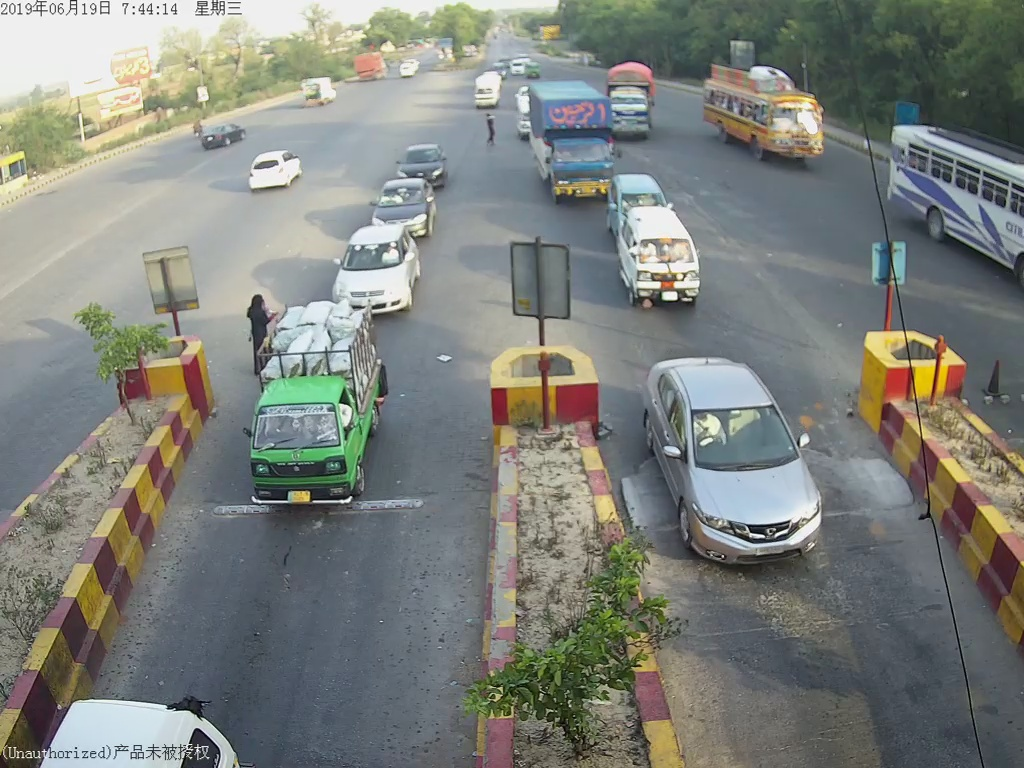Cat-1: (646, 366, 851, 580), (253, 314, 390, 498), (626, 214, 704, 310), (338, 222, 419, 308), (373, 183, 438, 229)
Cat-2: (524, 80, 616, 208)
